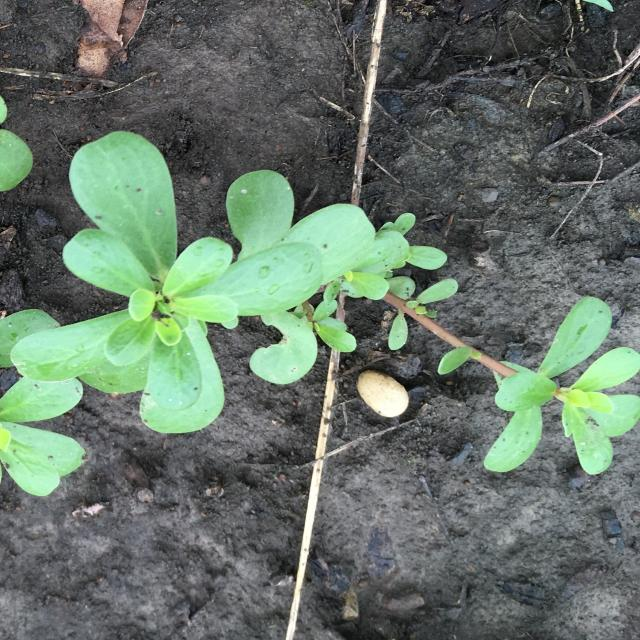Purslane: (1, 132, 640, 497)
